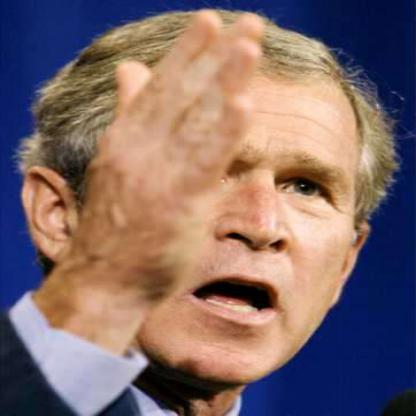face: (78, 25, 378, 397)
